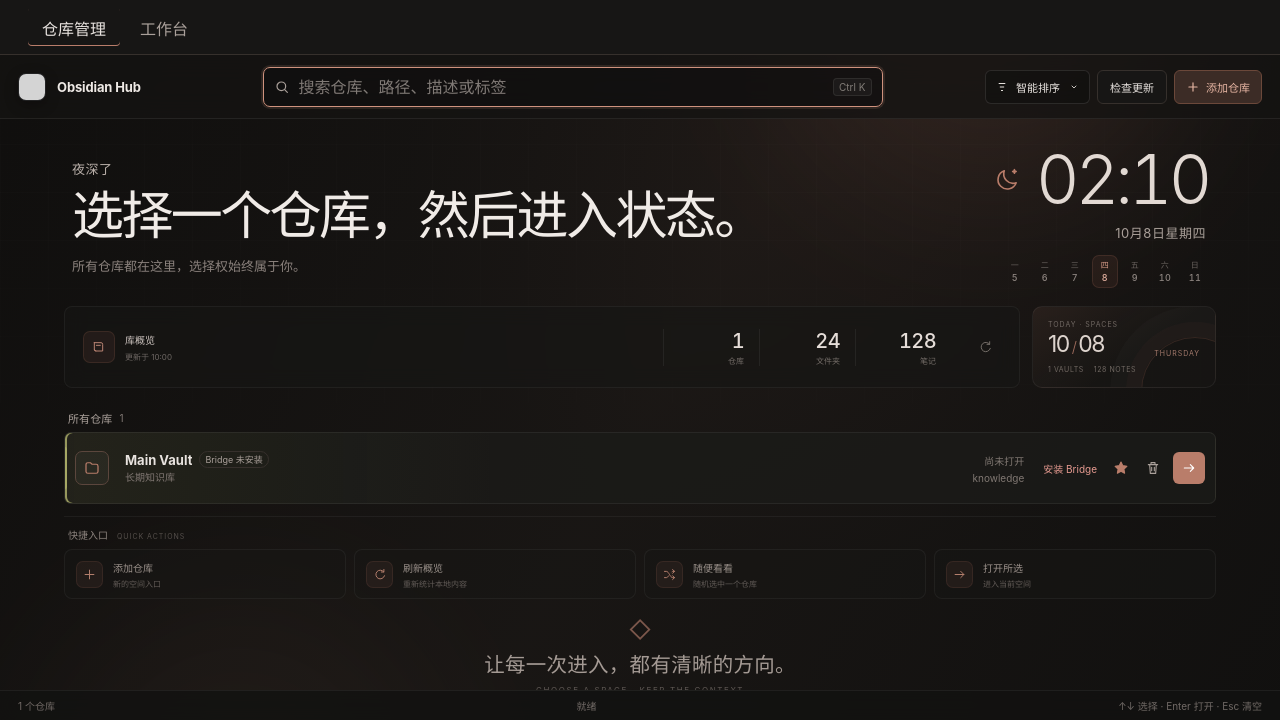
App › installs Bridge for an existing vault and shows auto-enabled state
Click the button "安装 Bridge" at {"x": 1070, "y": 468}, box [1036,454,1104,482]
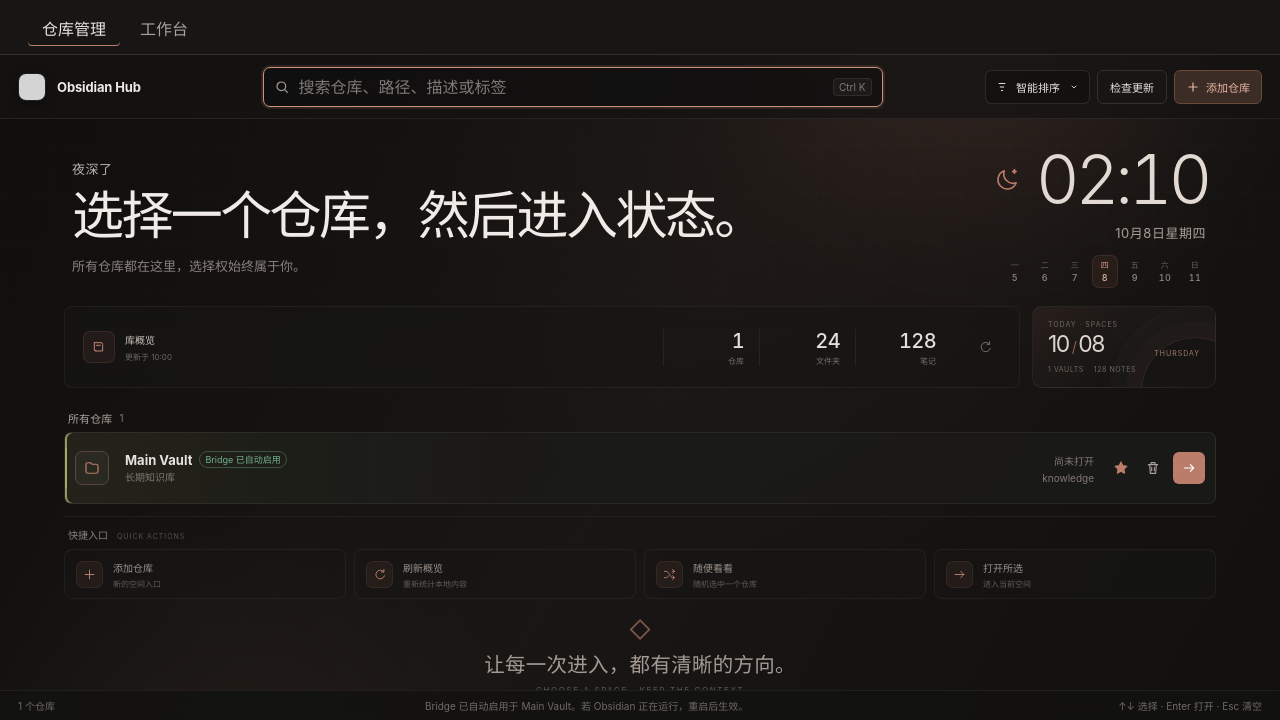
Expected: the text "Bridge 已自动启用" is shown, [199,451,287,468]
